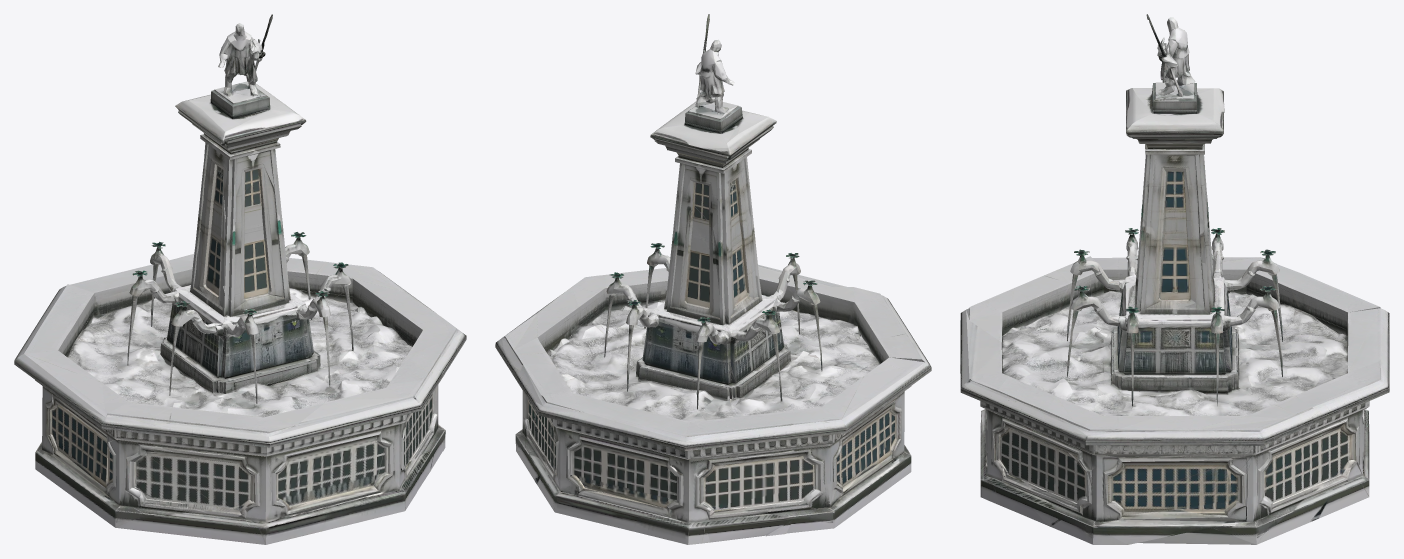
The model's file is fountain.glb.
3 renders of one model, left to right at view 1: azimuth 30°, elevation 25°; view 2: azimuth 150°, elevation 25°; view 3: azimuth 270°, elevation 25°, orthographic. The views are drawn at different scales.
Bounding box in the file's own units: 1.61 × 1.9 × 1.61.
1 material, 1 textured.
